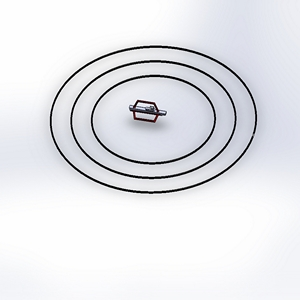circle: (46, 42, 261, 199)
submarine: (122, 93, 170, 131)
